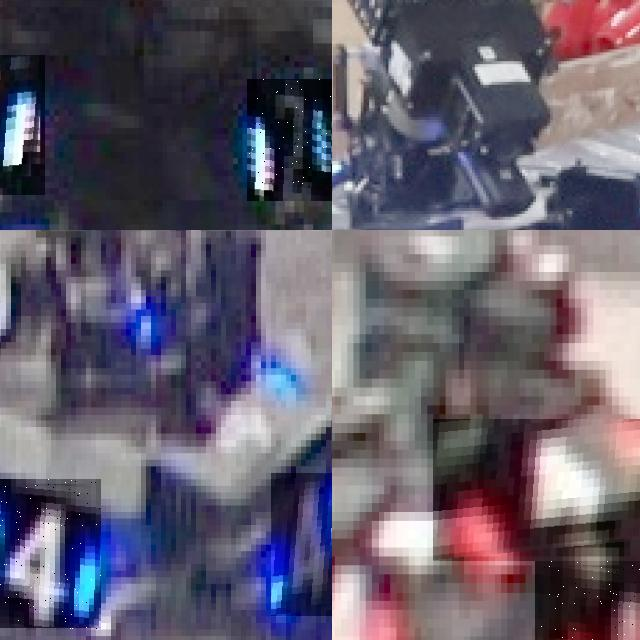B2: (247, 79, 332, 201), (0, 55, 44, 194)
B4: (0, 479, 101, 629), (271, 472, 332, 616)
R4: (433, 419, 640, 561), (534, 561, 640, 640), (332, 538, 396, 640)
